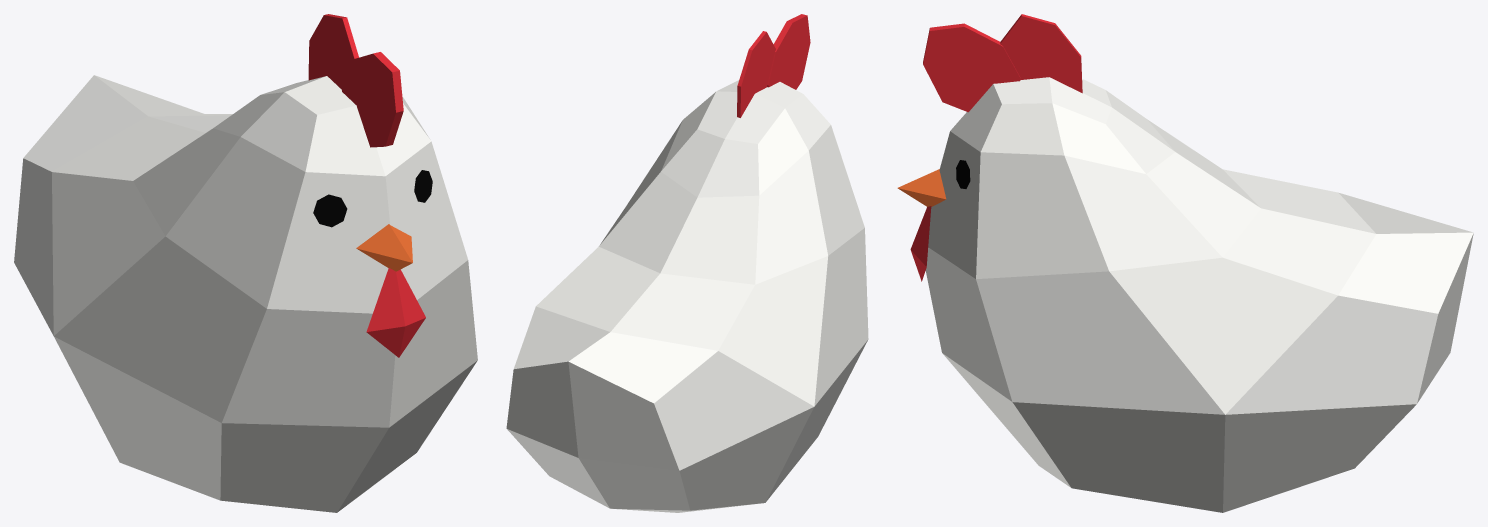
Rendered from Chicken.fbx.
The picture shows the model from 3 angles, left to right: view 1: azimuth 30°, elevation 25°; view 2: azimuth 150°, elevation 25°; view 3: azimuth 270°, elevation 25°; orthographic projection. The views are drawn at different scales.
Visible parts, largest first — view 1: Chicken; view 2: Chicken; view 3: Chicken.
Boxes of the visible parts, <box> form: Chicken: <box>14,14,477,512</box>; Chicken: <box>506,14,868,512</box>; Chicken: <box>897,14,1473,512</box>.
Bounding box in the file's own units: 255 × 368 × 397.
